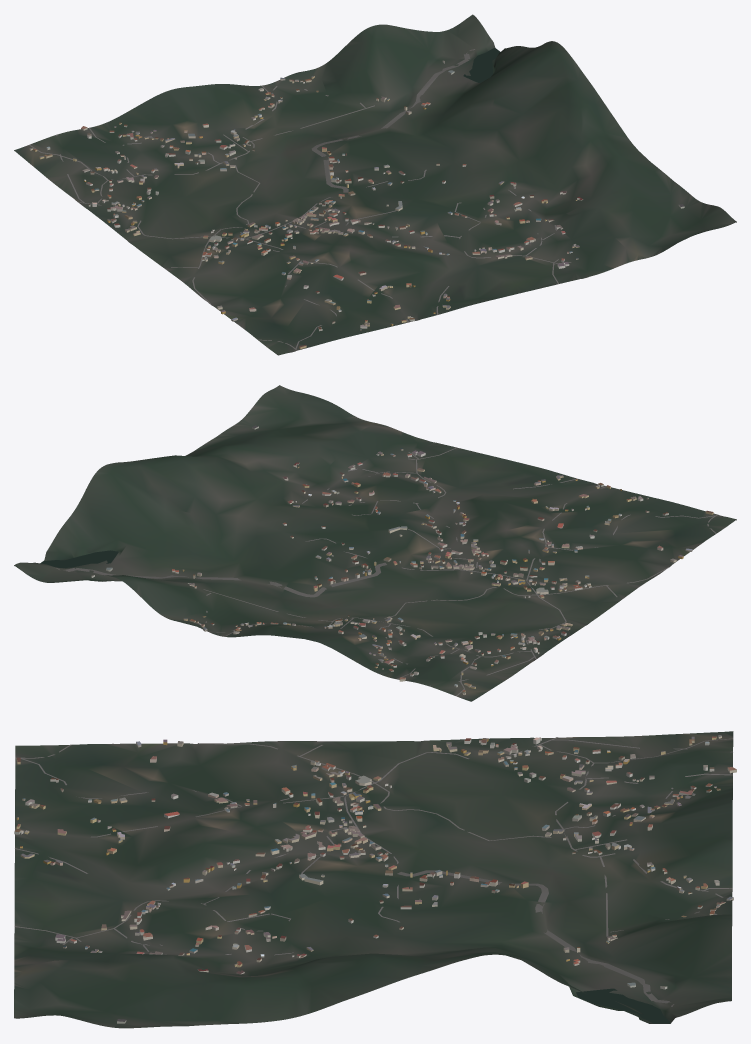
3 renders of one model, top to bottom at view 1: azimuth 30°, elevation 25°; view 2: azimuth 150°, elevation 25°; view 3: azimuth 270°, elevation 25°, orthographic. The views are drawn at different scales.
Parts seen in each view (by area): view 1: ground, buildings, roads, water; view 2: ground, buildings, roads, water; view 3: ground, buildings, roads, water.
Part boxes in pixels (x1,y1,x2,y2): ground: (14,14,736,355); buildings: (29,60,684,349); roads: (29,40,571,350); water: (463,48,500,82); ground: (14,385,736,701); buildings: (91,425,713,694); roads: (56,447,717,696); water: (40,550,118,567); ground: (14,731,733,1028); buildings: (14,735,736,1023); roads: (14,737,733,1006); water: (576,988,670,1023).
Size of the model in its own units: 1407 by 207 by 1412.
